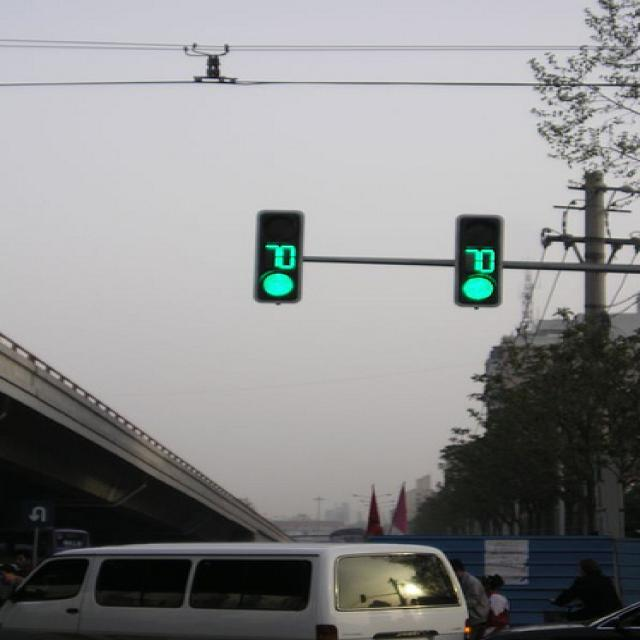Vehicle: (477, 601, 640, 640), (0, 525, 94, 564)
